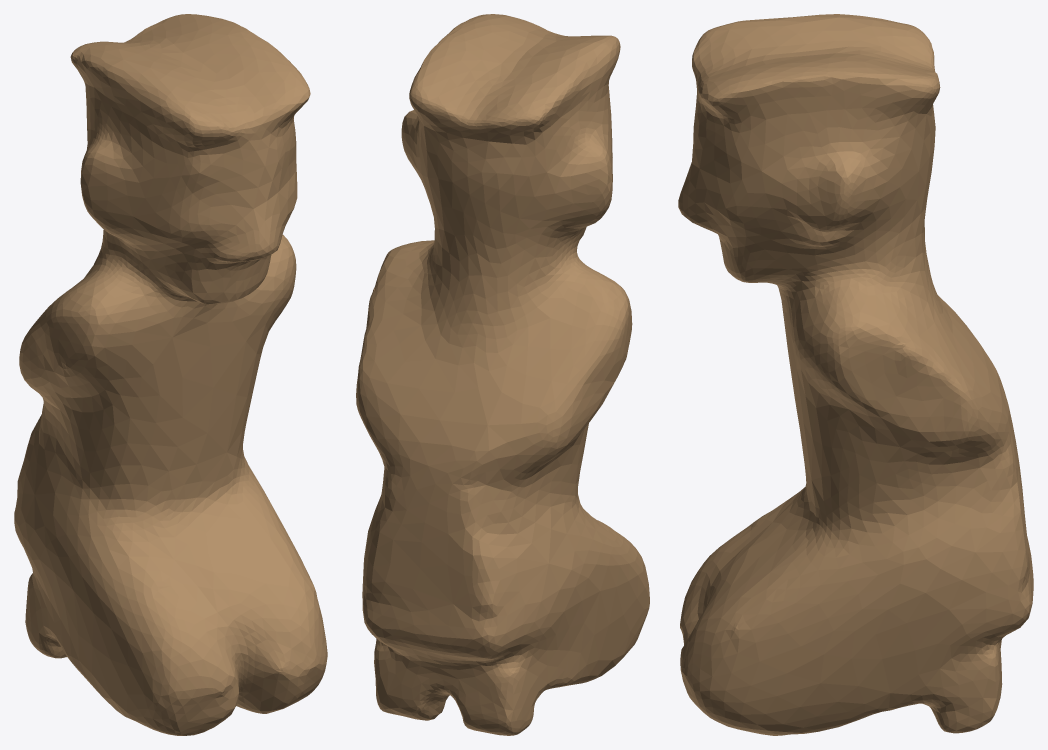
File: head-bronze.glb
3 renders of one model, left to right at view 1: azimuth 30°, elevation 25°; view 2: azimuth 150°, elevation 25°; view 3: azimuth 270°, elevation 25°, orthographic. The views are drawn at different scales.
Visible parts, largest first — view 1: z04.stl; view 2: z04.stl; view 3: z04.stl.
Boxes of the visible parts, <box> form: z04.stl: <box>14,14,327,735</box>; z04.stl: <box>356,14,649,735</box>; z04.stl: <box>678,14,1033,735</box>.
Size of the model in its own units: 1057 by 2721 by 1307.
